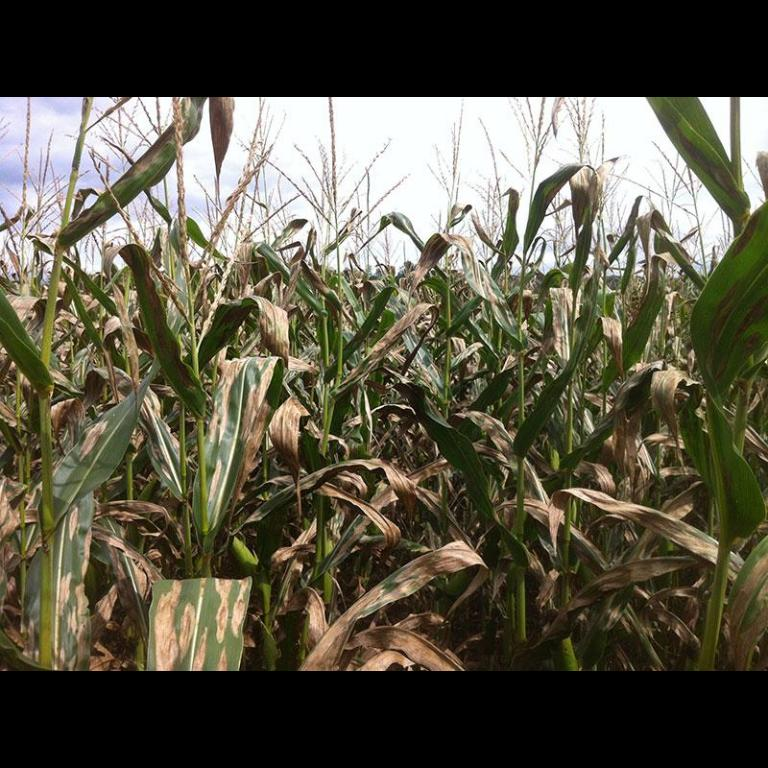blight: (150, 590, 234, 670), (216, 356, 266, 452)
